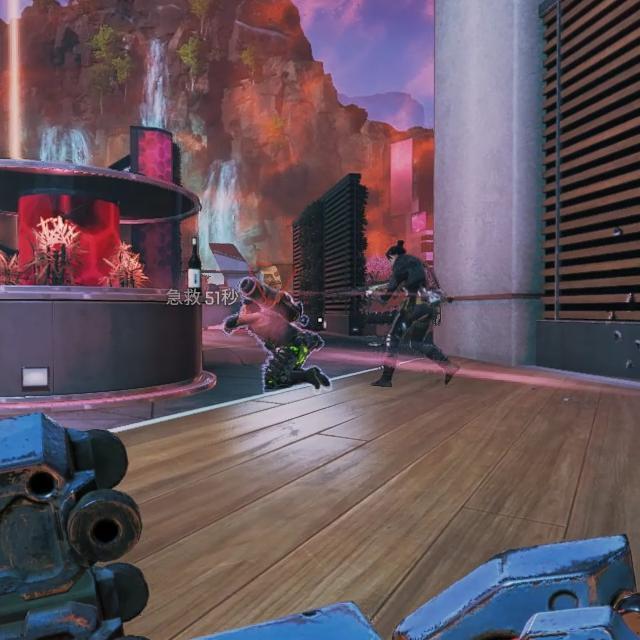avatar: (370, 237, 463, 392), (237, 298, 326, 395)
